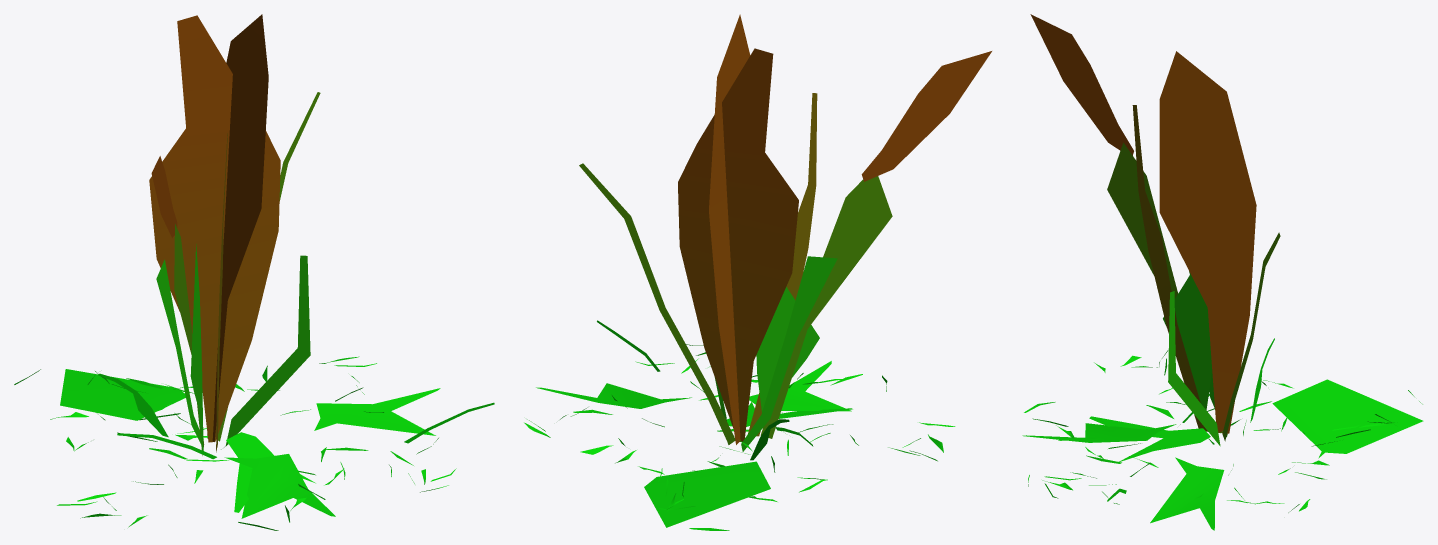
Rendered from Dead Shrubs_LOD1_Var11_vdknafgha.fbx.
3 views of the same model, side by side, from view 1: azimuth 30°, elevation 25°; view 2: azimuth 150°, elevation 25°; view 3: azimuth 270°, elevation 25° (orthographic). The views are drawn at different scales.
Parts seen in each view (by area): view 1: _z6bt_Var11_LOD1; view 2: _z6bt_Var11_LOD1; view 3: _z6bt_Var11_LOD1.
Boxes of the visible parts, x1,y1,x2,y2 form: _z6bt_Var11_LOD1: [14, 14, 494, 530]; _z6bt_Var11_LOD1: [524, 14, 991, 530]; _z6bt_Var11_LOD1: [1022, 14, 1423, 530].
Size of the model in its own units: 26.35 by 27.59 by 24.98.
